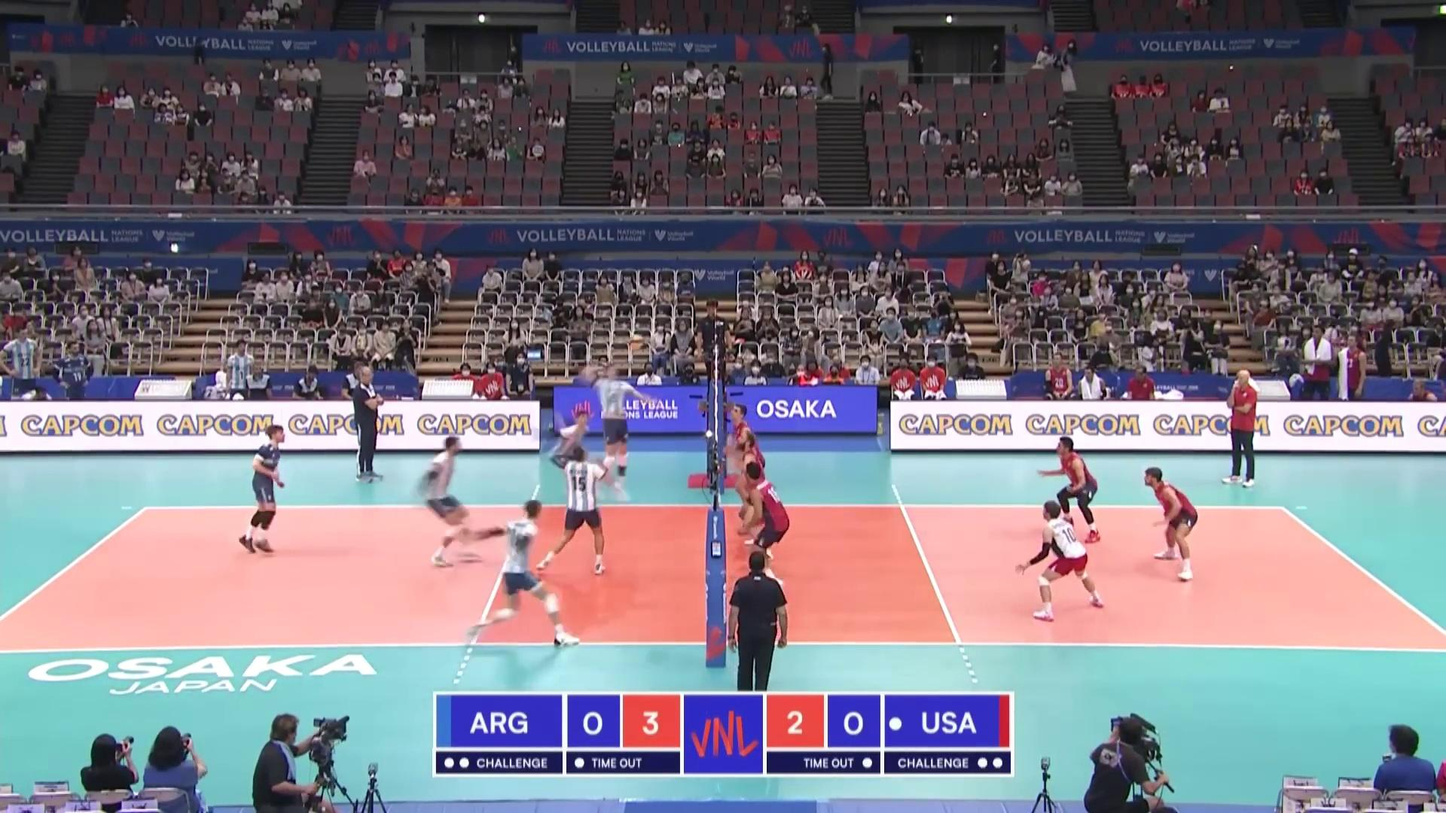player: (465, 500, 582, 647), (1013, 500, 1106, 620), (543, 445, 615, 577), (417, 436, 482, 565), (590, 362, 648, 498), (1144, 466, 1200, 586), (236, 425, 287, 556), (741, 463, 789, 590), (736, 432, 778, 561), (1049, 436, 1100, 541), (728, 402, 765, 534), (546, 411, 594, 512)
refree: (726, 553, 791, 689), (693, 299, 735, 397)
